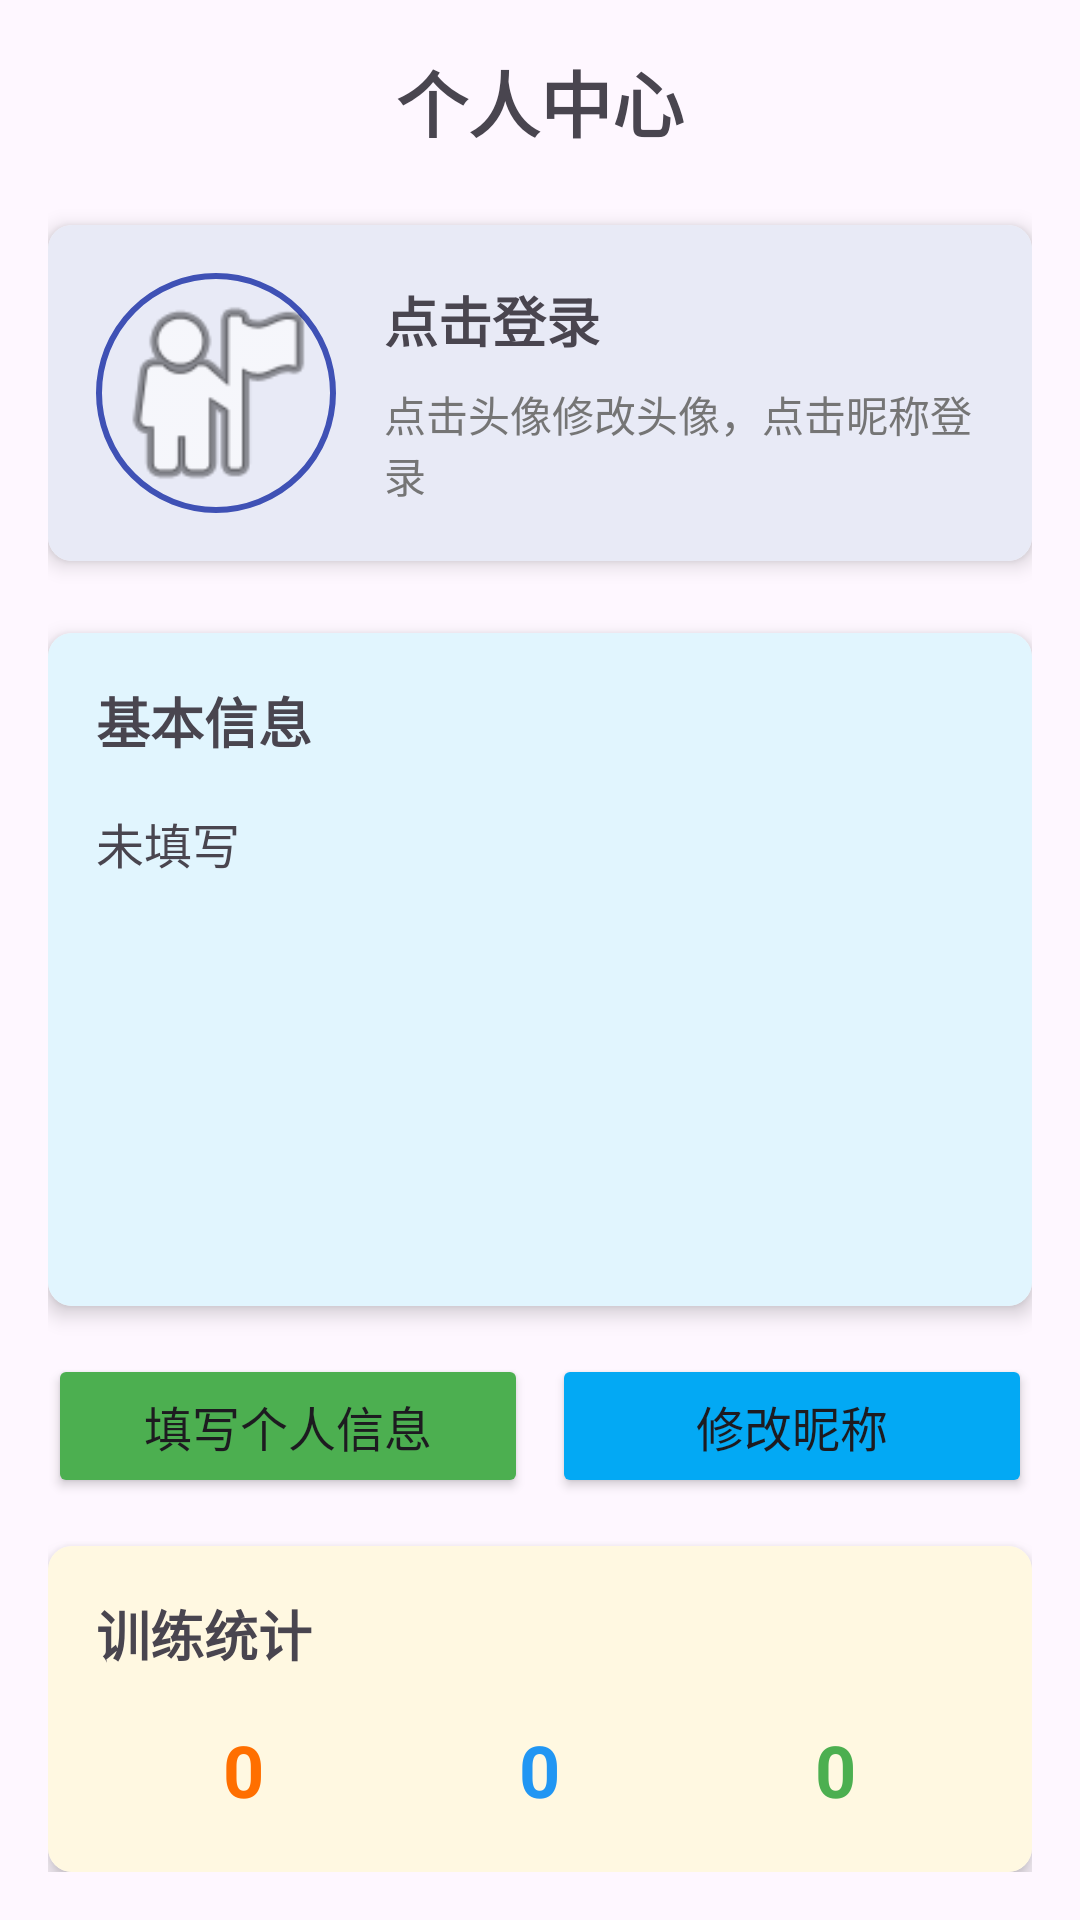

Icon click points for this 1080 × 1920 phone screenshot, format point (x, y):
myplaces: point (216, 393)
